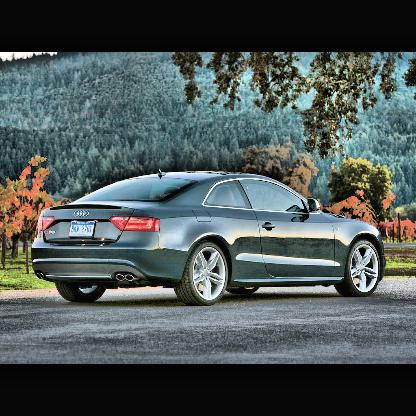Audi A5 Coupe 2012: (33, 174, 386, 305)
